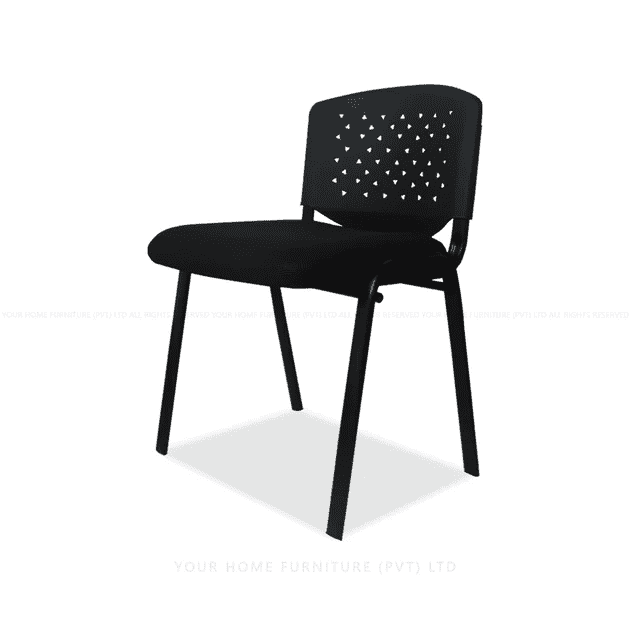chair: (155, 87, 497, 538)
